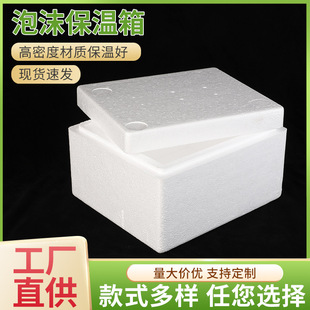Boxes: (69, 68, 285, 252)
